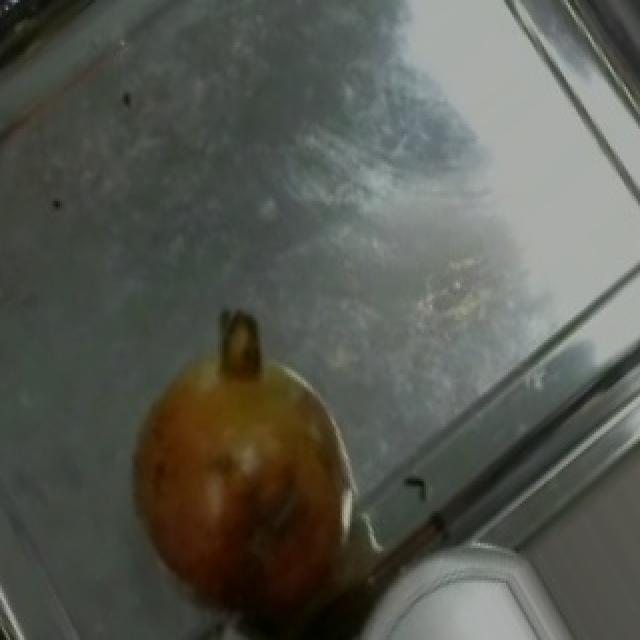fruit: (104, 320, 378, 603)
